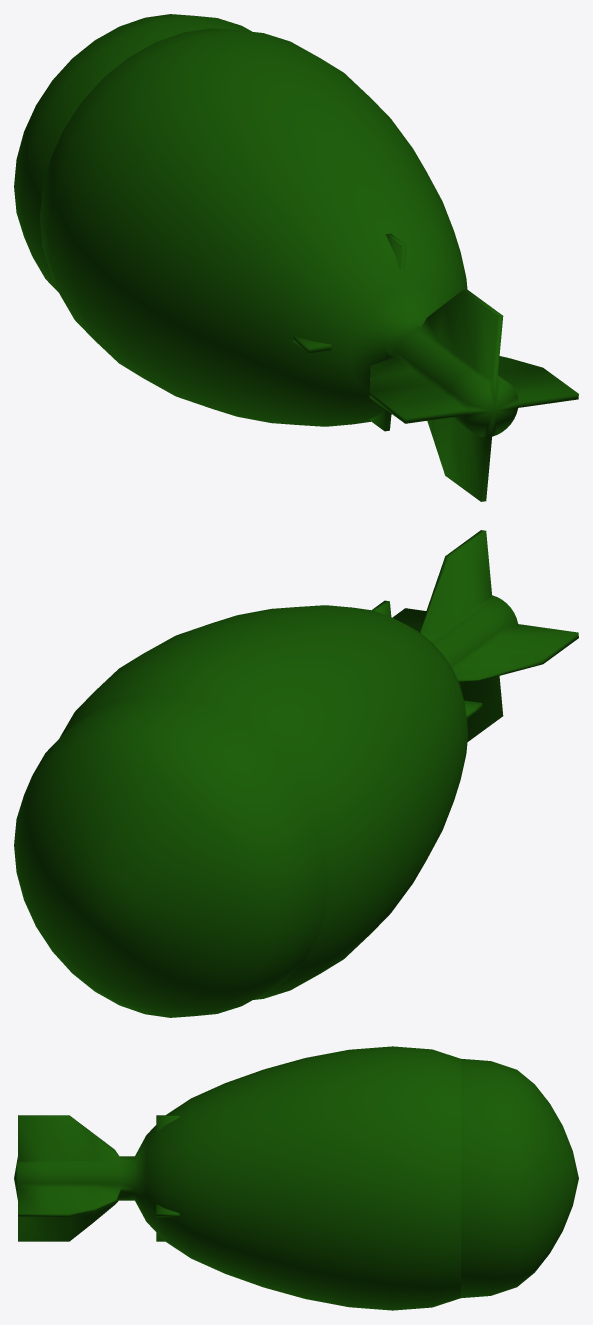
Rendered from Bomb.glb.
The picture shows the model from 3 angles, top to bottom: view 1: azimuth 30°, elevation 25°; view 2: azimuth 150°, elevation 25°; view 3: azimuth 270°, elevation 25°; orthographic projection. The views are drawn at different scales.
Parts seen in each view (by area): view 1: Sphere.001, Sphere; view 2: Sphere, Sphere.001; view 3: Sphere.001, Sphere.
Boxes of the visible parts, x1,y1,x2,y2 form: Sphere.001: (40, 28, 578, 501); Sphere: (14, 14, 406, 431); Sphere: (14, 600, 482, 1017); Sphere.001: (60, 530, 578, 999); Sphere.001: (14, 1046, 460, 1310); Sphere: (156, 1058, 578, 1298).
Bounding box in the file's own units: 2.33 × 2.33 × 4.98.
